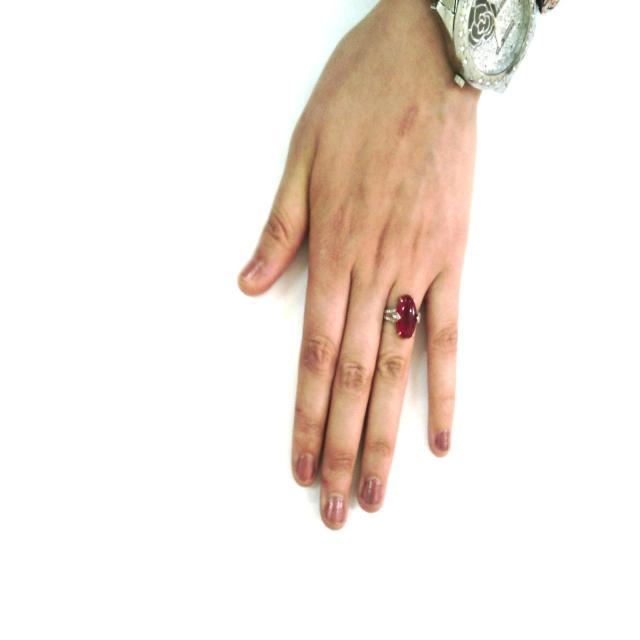Fingernail: (362, 476, 384, 507), (326, 494, 347, 524), (240, 256, 262, 282), (297, 453, 316, 482), (437, 432, 449, 451)
